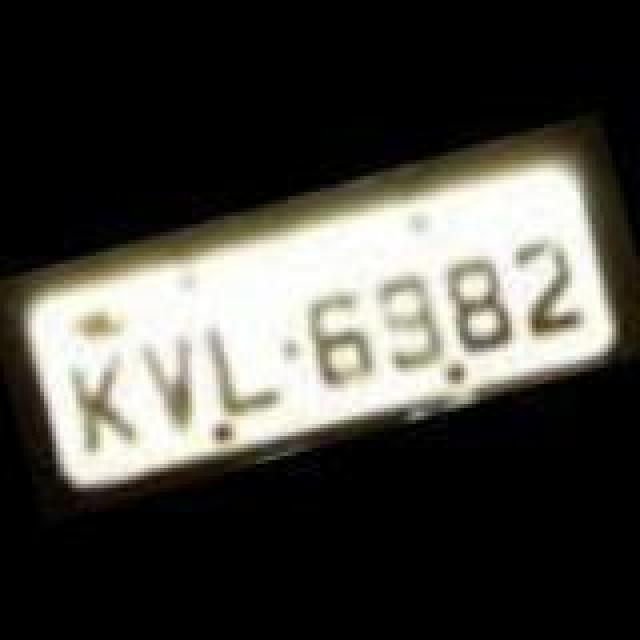2: (500, 228, 588, 344)
6: (294, 280, 386, 400)
8: (434, 250, 518, 362)
9: (364, 266, 452, 382)
K: (60, 348, 148, 456)
L: (194, 310, 286, 422)
V: (132, 328, 220, 436)
